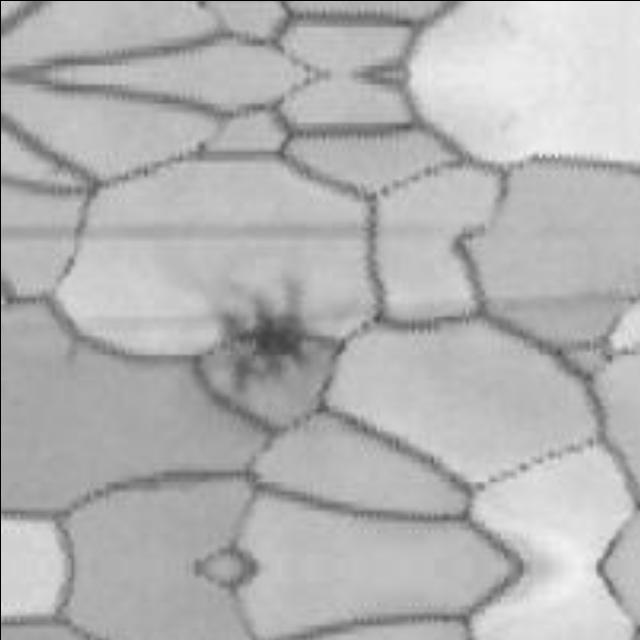good_void: (203, 272, 322, 393)
